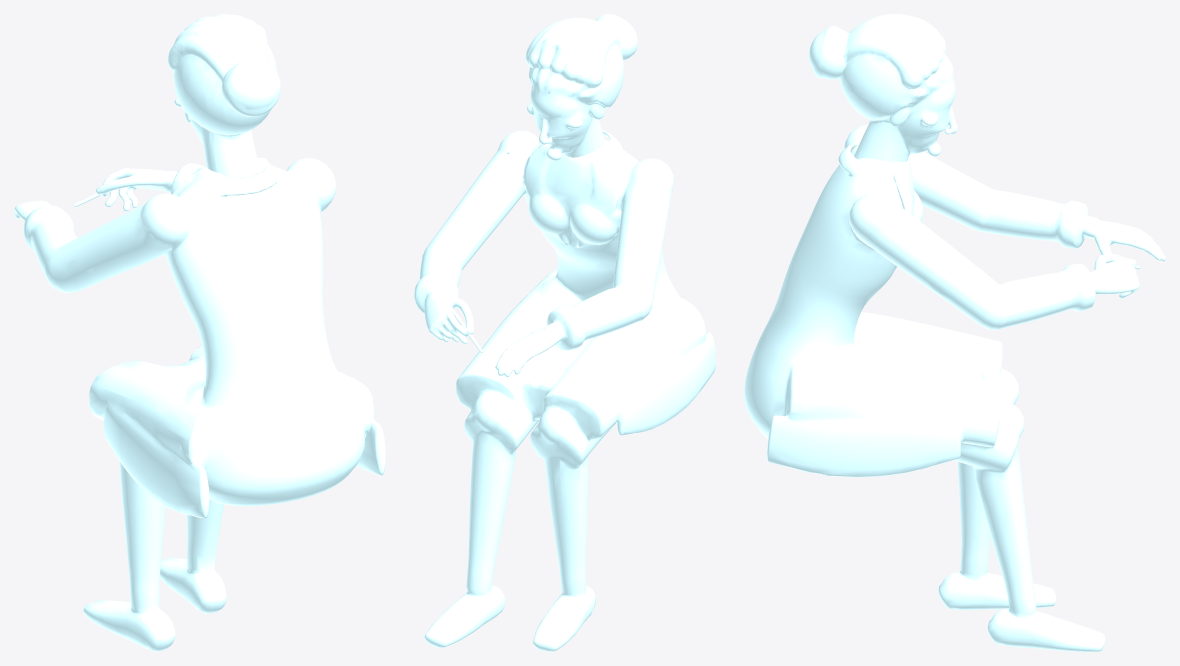
The model's file is leyla_echo.glb.
3 views of the same model, side by side, from view 1: azimuth 30°, elevation 25°; view 2: azimuth 150°, elevation 25°; view 3: azimuth 270°, elevation 25° (orthographic). The views are drawn at different scales.
Visible parts, largest first — view 1: echo_body, echo_head; view 2: echo_body, echo_head; view 3: echo_body, echo_head.
Boxes of the visible parts, x1,y1,x2,y2 form: echo_body: [14, 157, 385, 651]; echo_head: [167, 14, 280, 179]; echo_body: [414, 130, 715, 651]; echo_head: [525, 14, 637, 160]; echo_body: [744, 124, 1165, 651]; echo_head: [809, 14, 957, 161].
Size of the model in its own units: 0.5563 by 1.36 by 0.8597.
